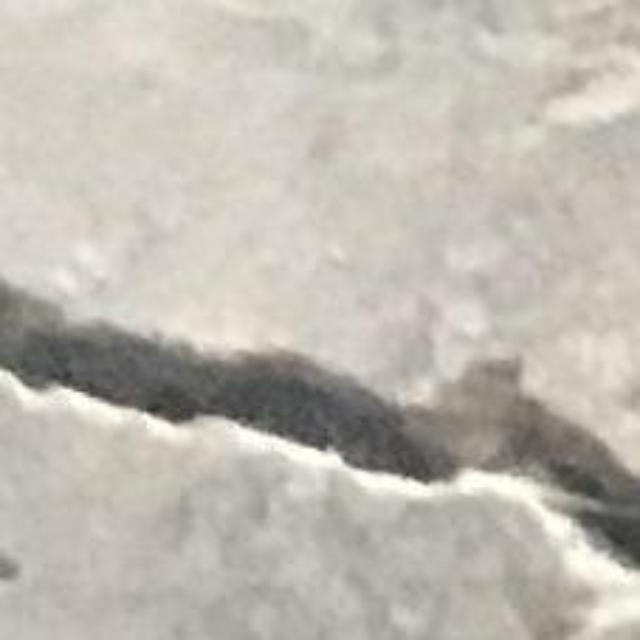crack: (0, 277, 639, 566)
